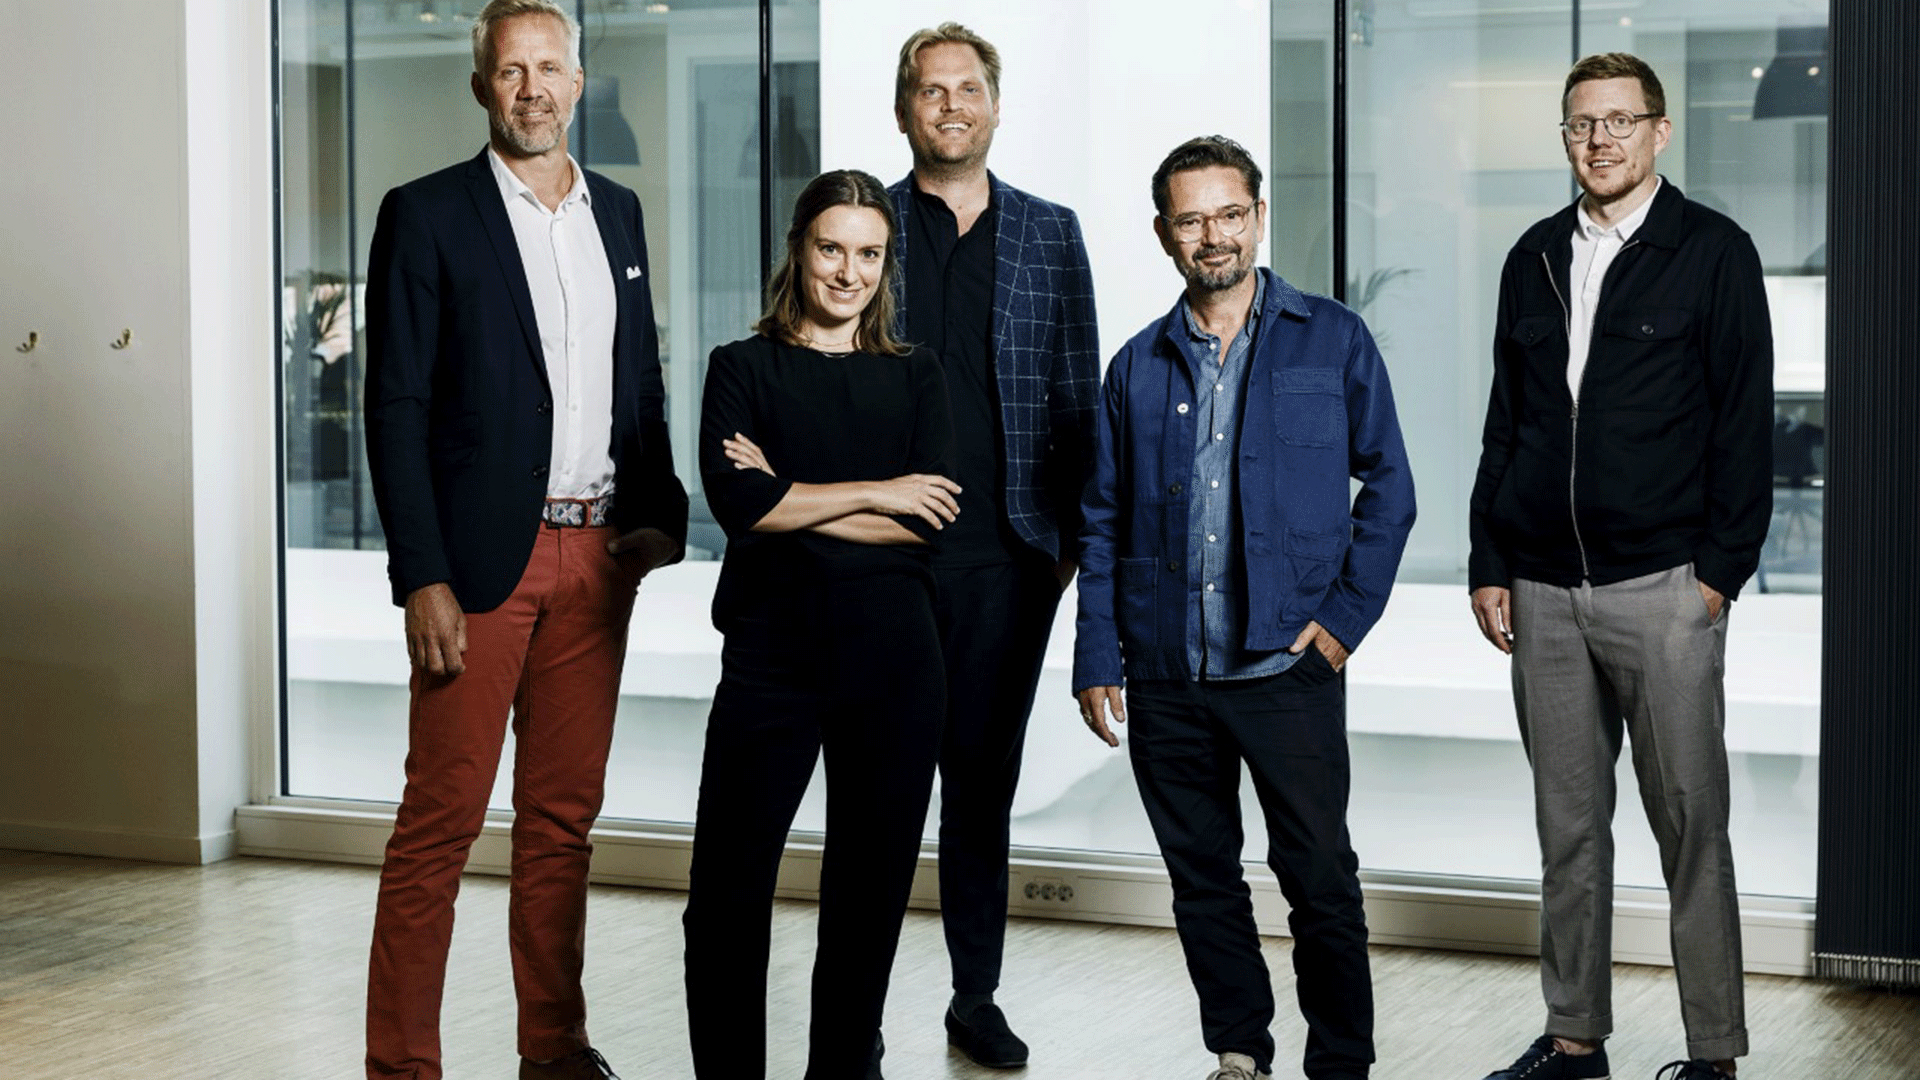f: (1153, 133, 1269, 291), (468, 3, 582, 157), (1560, 54, 1673, 199), (791, 167, 891, 330), (895, 18, 997, 175)
